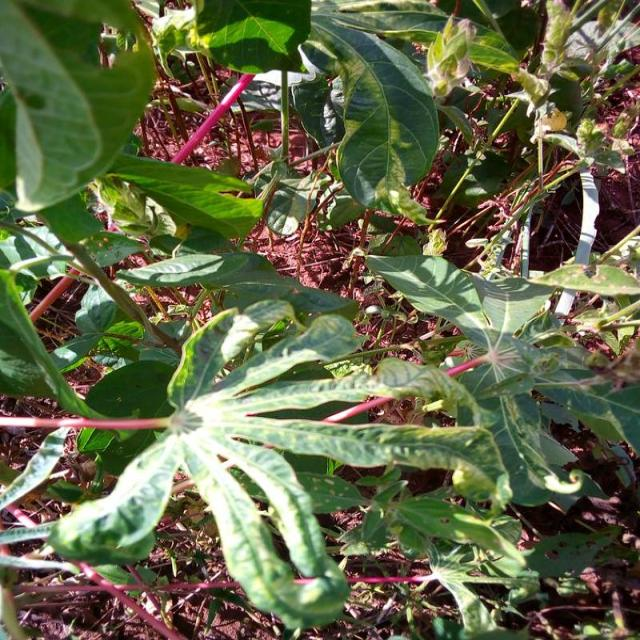cassava leaf: (45, 298, 510, 632), (0, 0, 156, 217), (302, 8, 440, 222)
